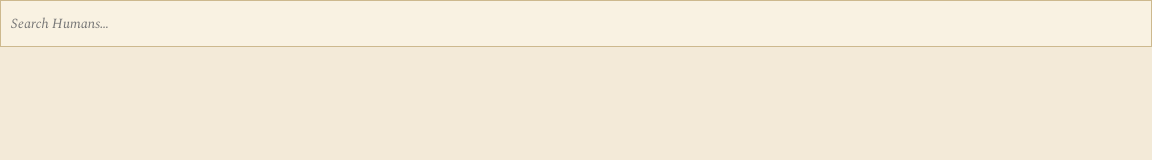
WikilinkListField ranking › finds a folio by its alias
Type "Ulysses" into the dropdown named "Allies" at (576, 24), box [11,8,1141,39]
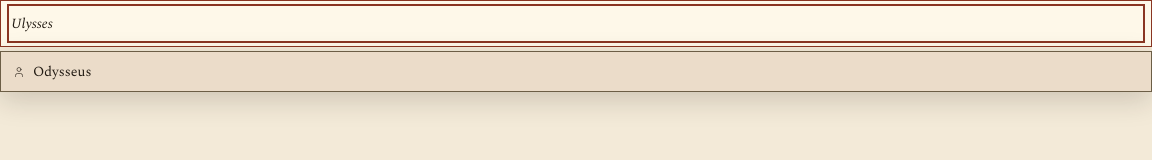
Expected: the options read "Odysseus", in this order, [1,52,1151,91]
